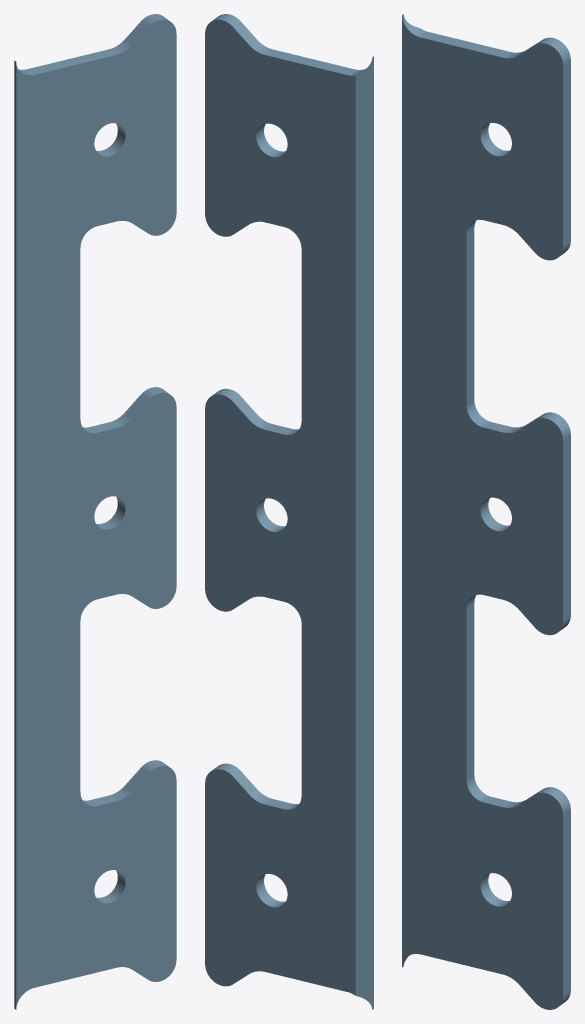
File: narrow-panel-bottom-subpanel-flap.glb
3 views of the same model, side by side, from view 1: azimuth 30°, elevation 25°; view 2: azimuth 150°, elevation 25°; view 3: azimuth 330°, elevation 25° (orthographic).
Parts seen in each view (by area): view 1: narrow-panel-bottom-subpanel-flap; view 2: narrow-panel-bottom-subpanel-flap; view 3: narrow-panel-bottom-subpanel-flap.
Boxes of the visible parts, x1=… form: narrow-panel-bottom-subpanel-flap: x1=14, y1=14, x2=176, y2=1009; narrow-panel-bottom-subpanel-flap: x1=205, y1=14, x2=373, y2=1009; narrow-panel-bottom-subpanel-flap: x1=402, y1=14, x2=570, y2=1009.
Bounding box in the file's own units: 108 × 620 × 9.
